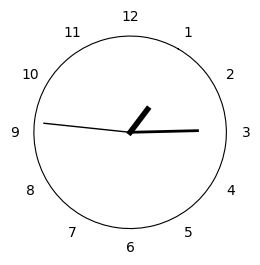12: (121, 9, 139, 23)
circle: (34, 36, 226, 228)
hours: (127, 106, 151, 136)
minutes: (136, 129, 199, 134)
seconds: (43, 122, 127, 132)
